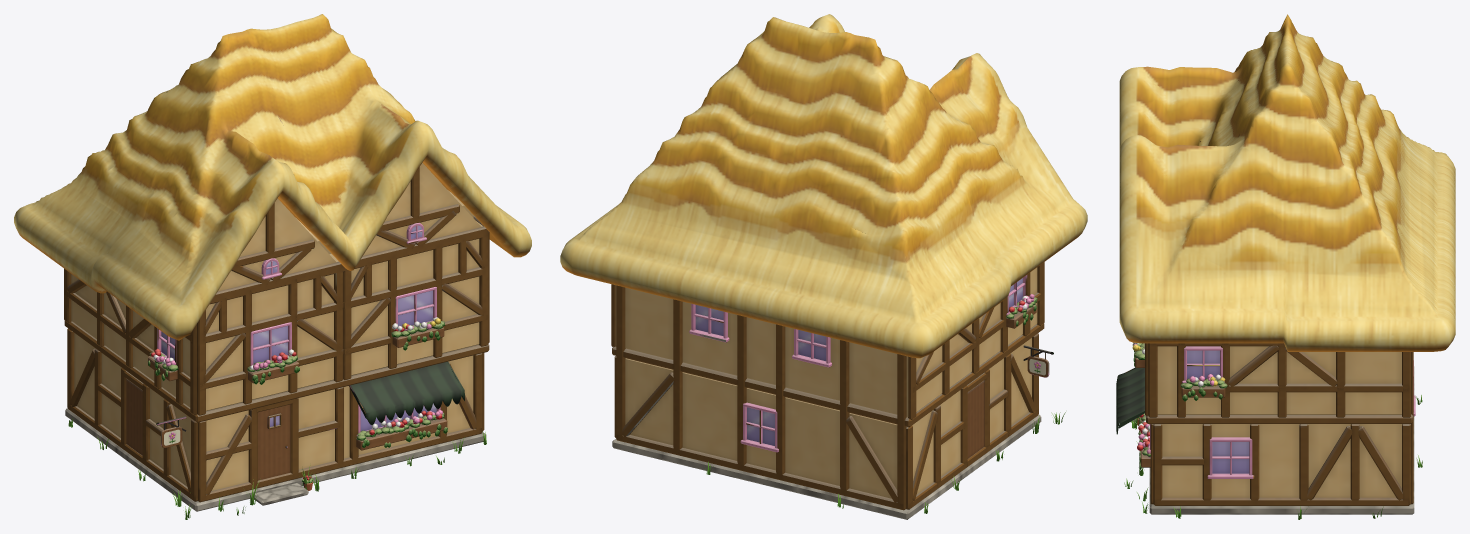
The model's file is tudor_house.glb.
3 views of the same model, side by side, from view 1: azimuth 30°, elevation 25°; view 2: azimuth 150°, elevation 25°; view 3: azimuth 270°, elevation 25° (orthographic).
Parts seen in each view (by area): view 1: tudor_house, tudor_house_grass; view 2: tudor_house; view 3: tudor_house, tudor_house_grass.
Part boxes in pixels (x1,y1,x2,y2): tudor_house: [14, 14, 531, 511]; tudor_house_grass: [68, 418, 486, 519]; tudor_house: [560, 14, 1087, 519]; tudor_house: [1116, 14, 1455, 514]; tudor_house_grass: [1124, 395, 1422, 519].
Bounding box in the file's own units: 11.58 × 12.25 × 9.27.
Materials: 2 (2 with a texture image).
